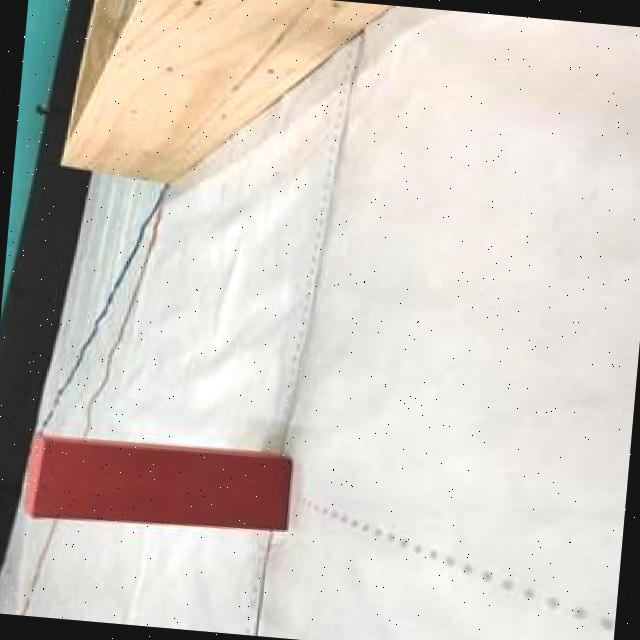redbox: (16, 429, 295, 544)
